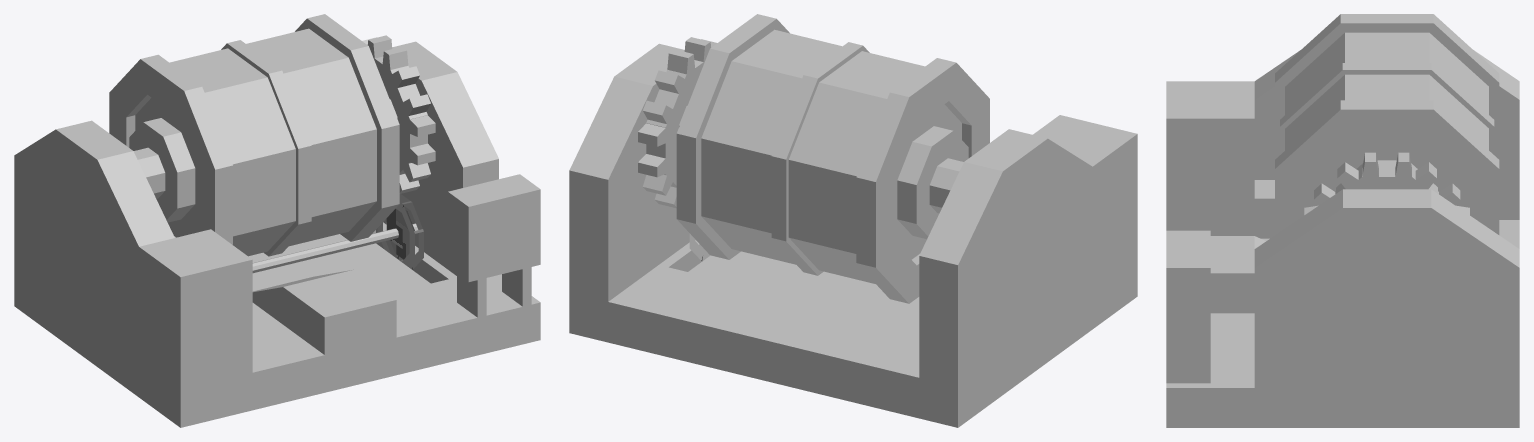
The model's file is display_ballmill.obj.
The picture shows the model from 3 angles, left to right: view 1: azimuth 30°, elevation 25°; view 2: azimuth 150°, elevation 25°; view 3: azimuth 270°, elevation 25°; orthographic projection. The views are drawn at different scales.
Parts seen in each view (by area): view 1: Base, gear, axle; view 2: Base, gear; view 3: Base, gear.
Part boxes in pixels (<box>): Base: <box>14,41,540,427</box>; gear: <box>109,14,435,256</box>; axle: <box>252,194,423,273</box>; Base: <box>569,43,1137,427</box>; gear: <box>638,14,989,303</box>; Base: <box>1166,50,1519,427</box>; gear: <box>1275,14,1499,234</box>.
Size of the model in its own units: 5 by 3.4 by 4.
